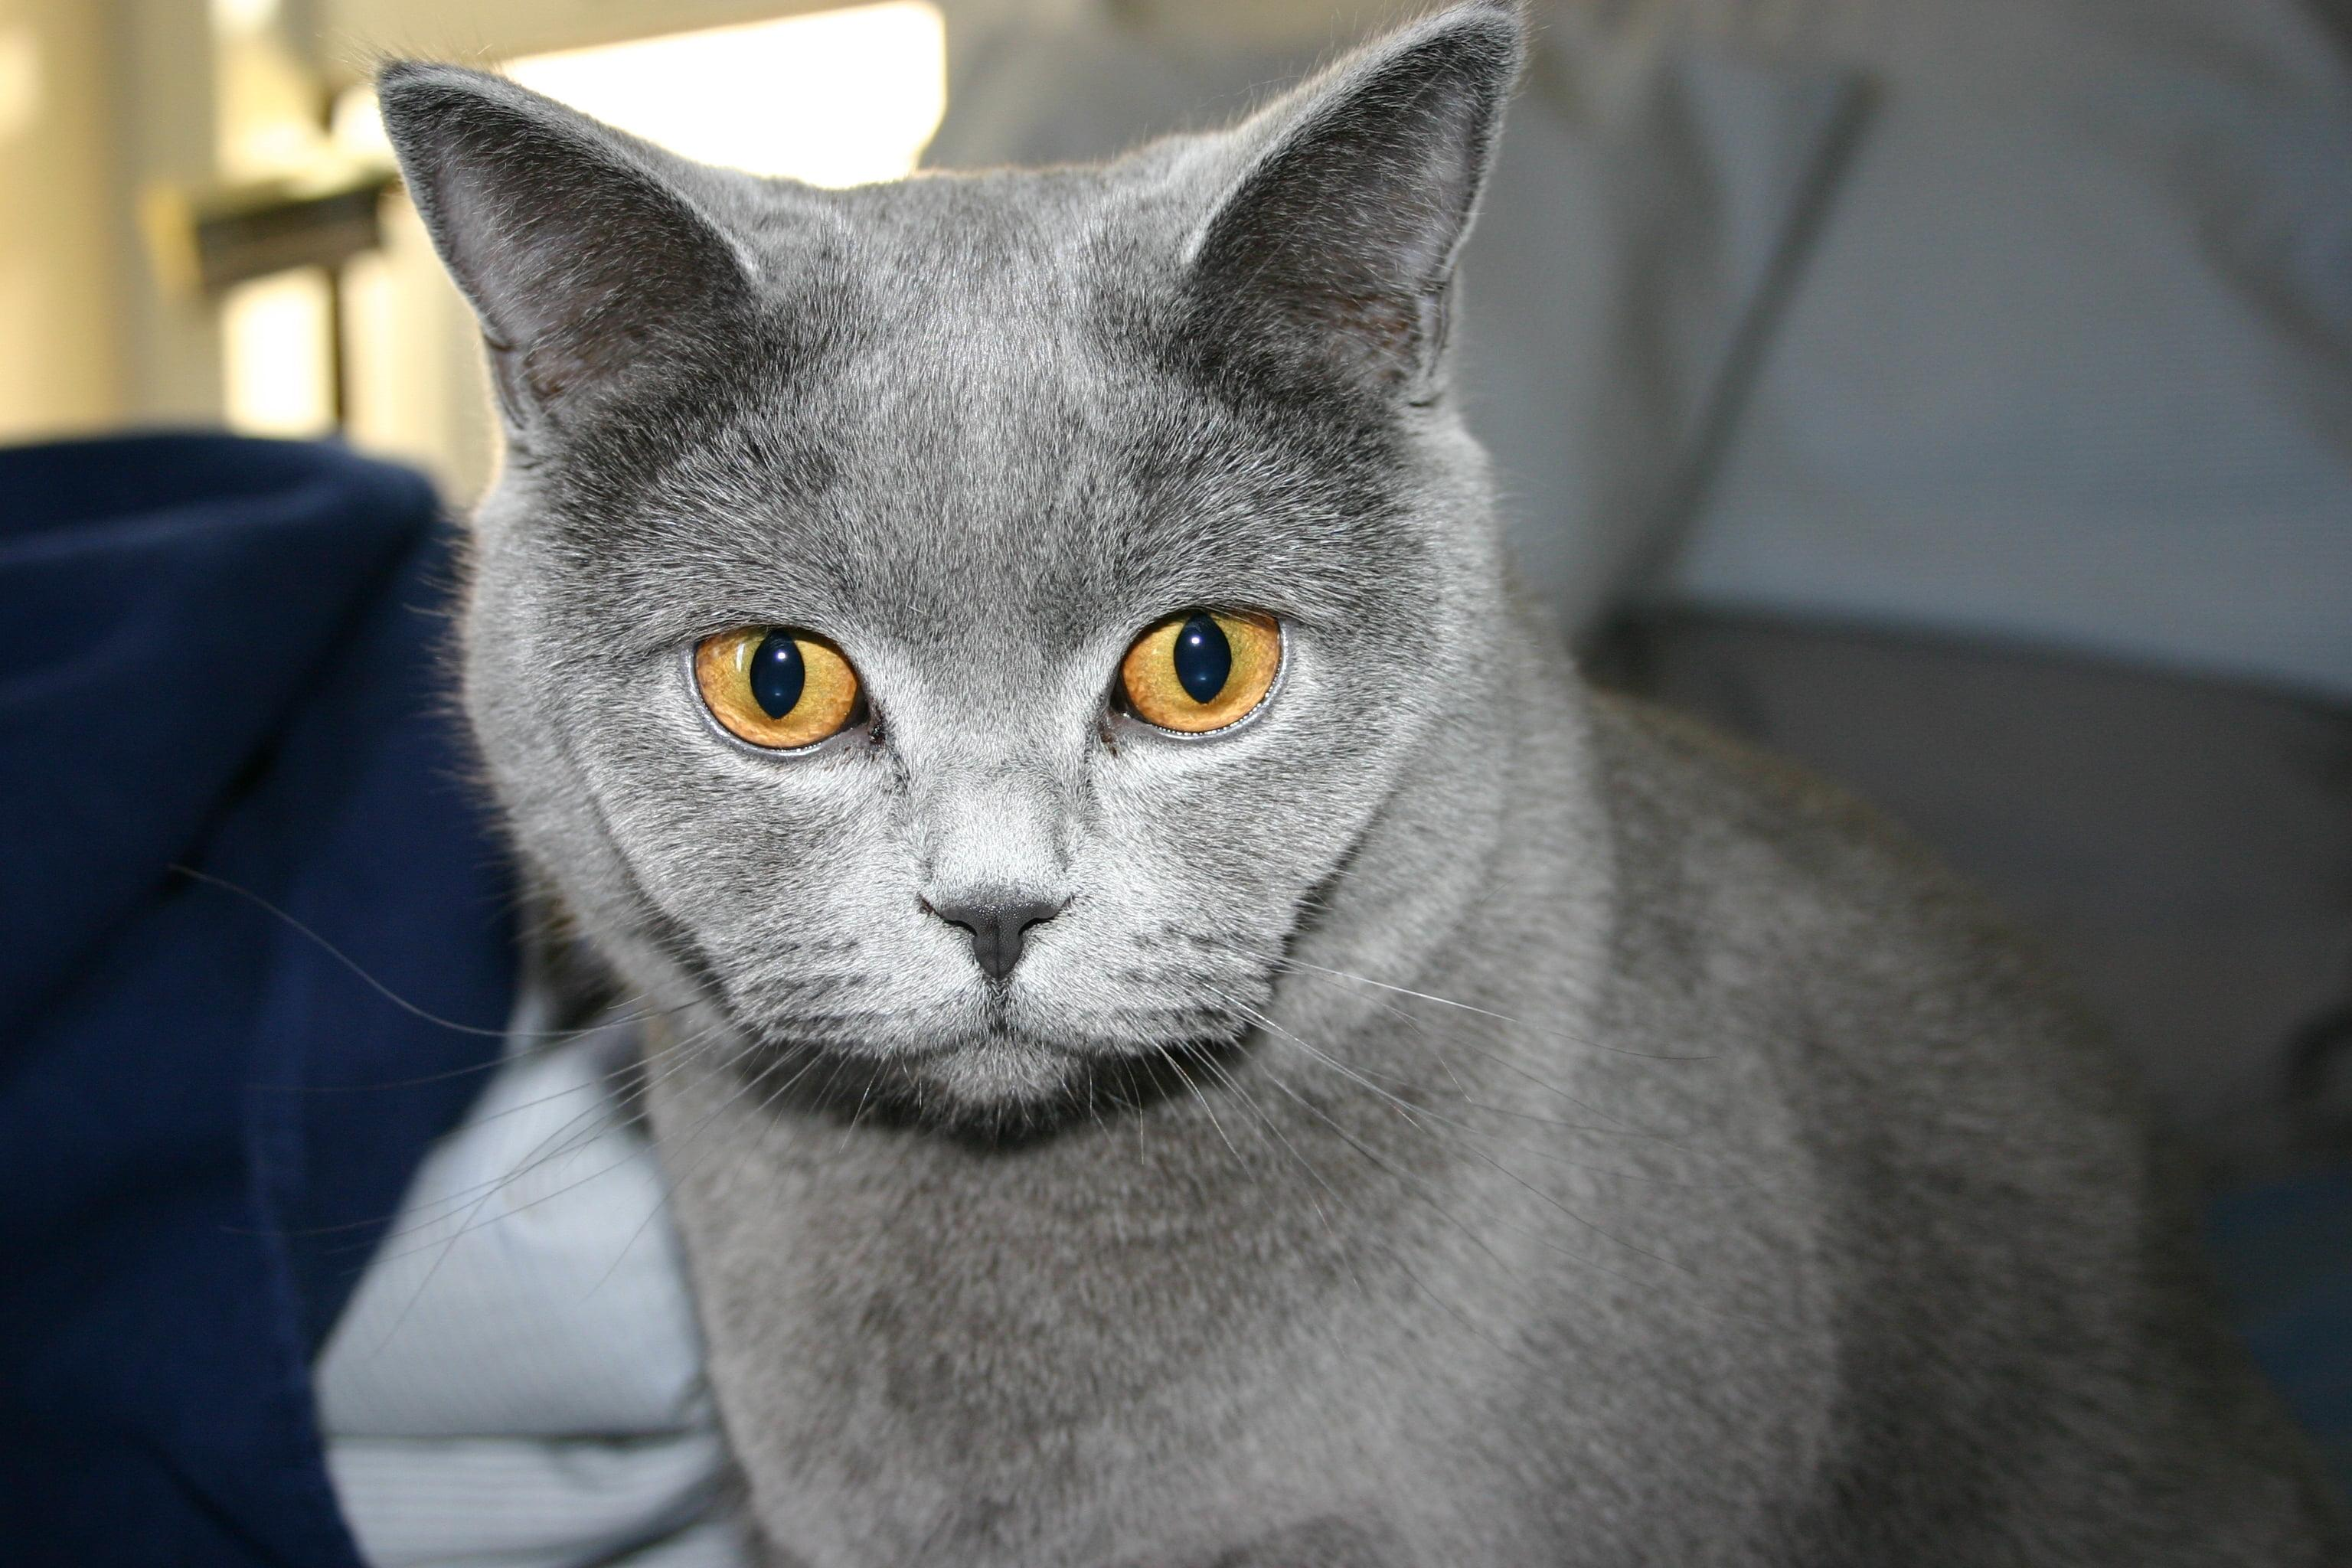rblue: (358, 1, 1576, 1180)
